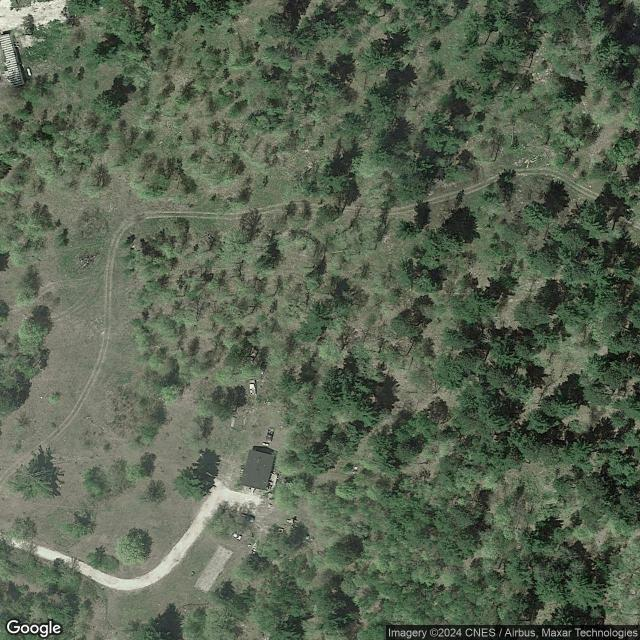Propane: (25, 67, 33, 77), (262, 442, 270, 447)
